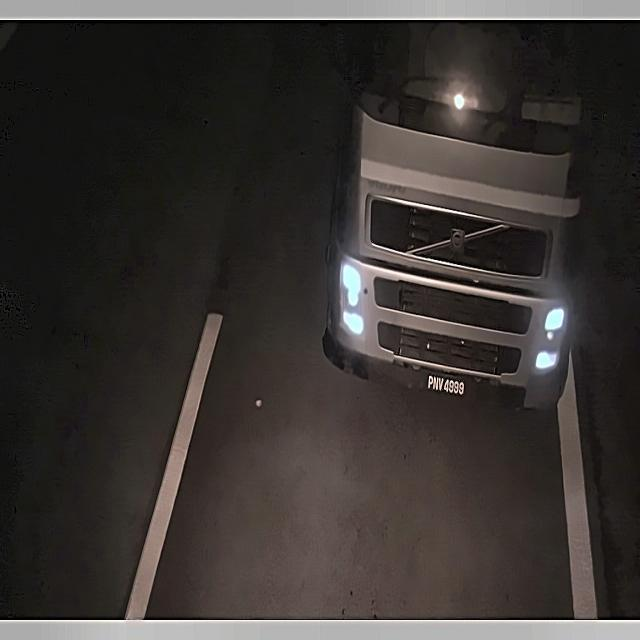car: (419, 370, 474, 399)
